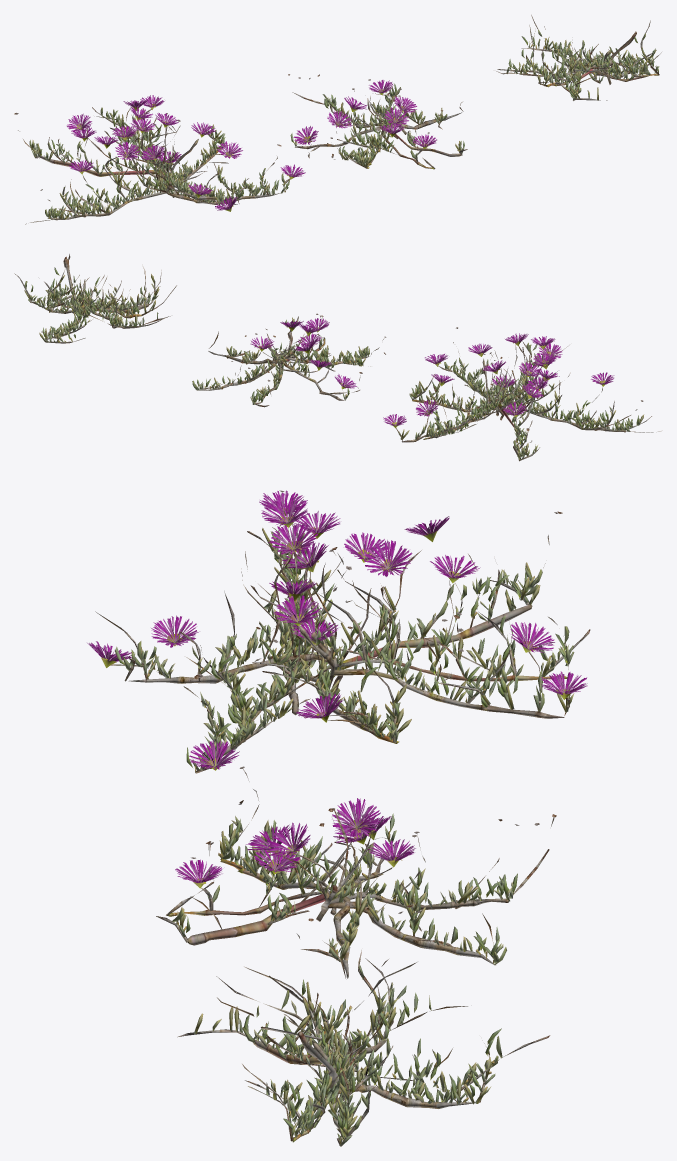
The model's file is leipoldtia_schultzei.glb.
3 renders of one model, top to bottom at view 1: azimuth 30°, elevation 25°; view 2: azimuth 150°, elevation 25°; view 3: azimuth 270°, elevation 25°, orthographic. The views are drawn at different scales.
Visible parts, largest first — view 1: leipoldtia_schultzei_Large_LOD0; view 2: leipoldtia_schultzei_Large_LOD0; view 3: leipoldtia_schultzei_Large_LOD0.
Part boxes in pixels (left/top/right/bottom): leipoldtia_schultzei_Large_LOD0: left=14, top=15, right=661, bottom=224; leipoldtia_schultzei_Large_LOD0: left=14, top=254, right=662, bottom=461; leipoldtia_schultzei_Large_LOD0: left=87, top=490, right=590, bottom=1146.
Bounding box in the file's own units: 2.31 × 0.3171 × 0.8099.
Materials: 1 (1 with a texture image).
